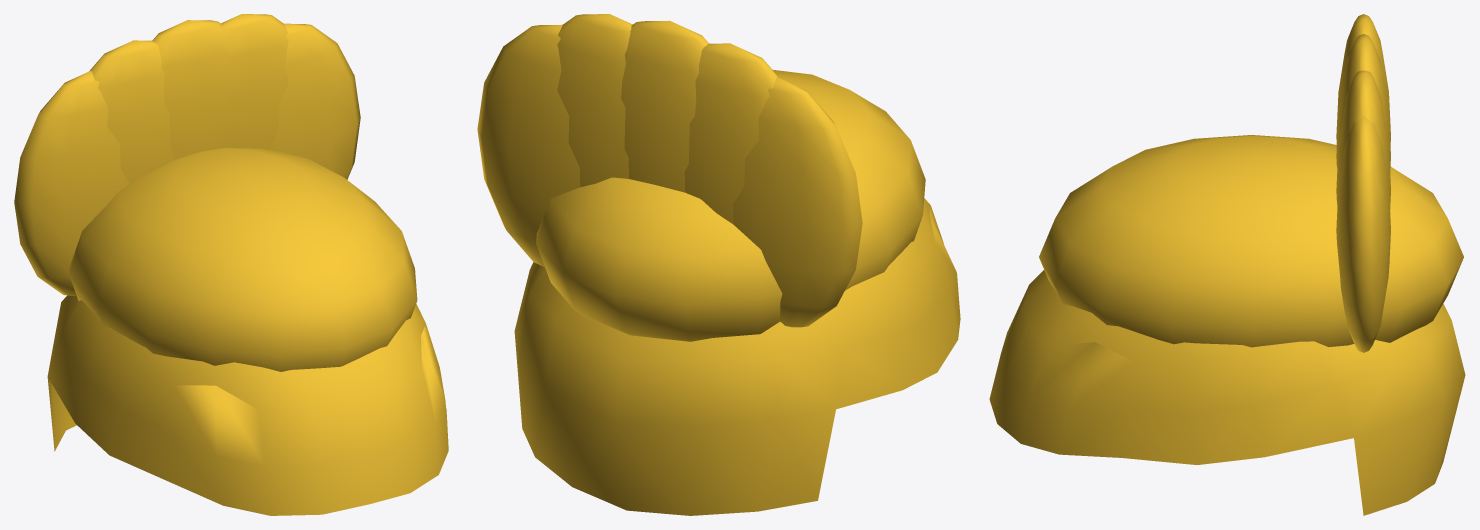
File: hair-gele.glb
3 views of the same model, side by side, from view 1: azimuth 30°, elevation 25°; view 2: azimuth 150°, elevation 25°; view 3: azimuth 270°, elevation 25° (orthographic). The views are drawn at different scales.
Visible parts, largest first — view 1: gele; view 2: gele; view 3: gele.
Part boxes in pixels (<box>): gele: <box>14,14,448,515</box>; gele: <box>477,14,960,515</box>; gele: <box>989,14,1465,515</box>.
Size of the model in its own units: 0.2399 by 0.2727 by 0.2785.
